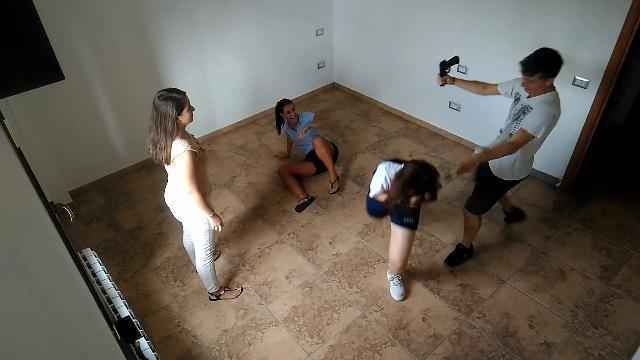non-violence: (144, 86, 246, 304), (270, 97, 344, 216)
violence: (367, 46, 566, 300)
weapon: (437, 52, 463, 89)
